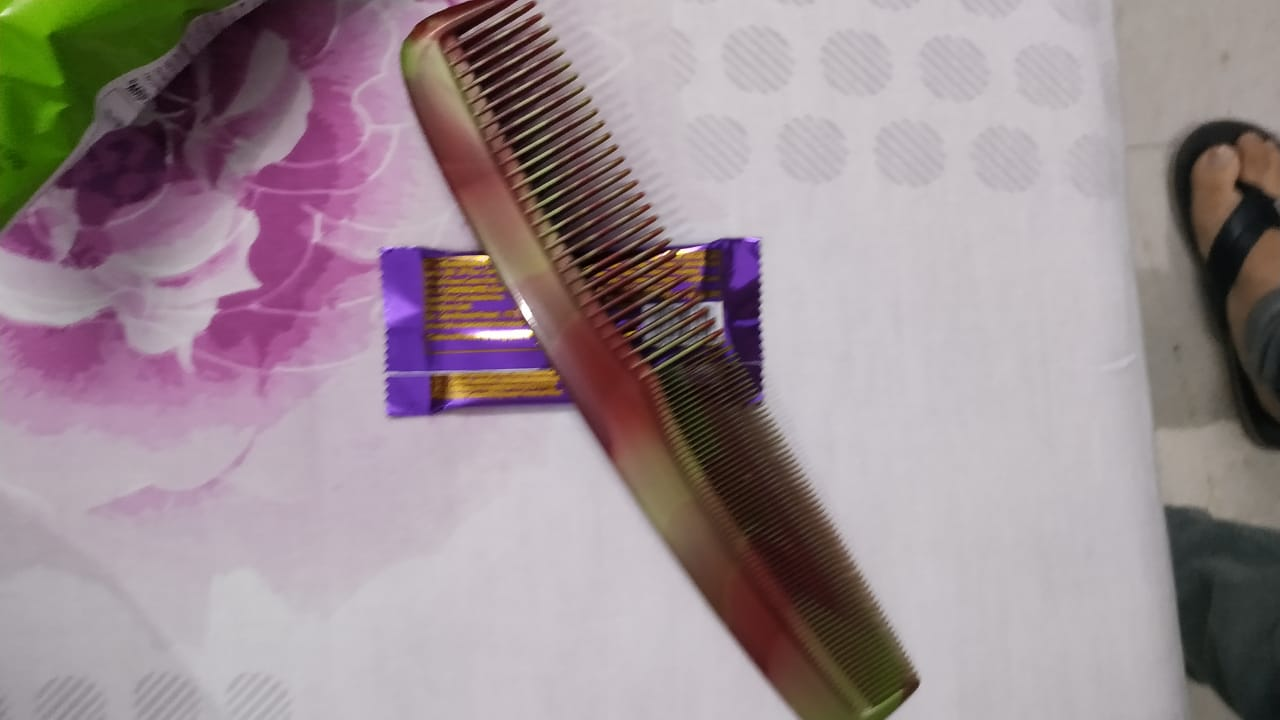dairy milk: (372, 232, 771, 418)
